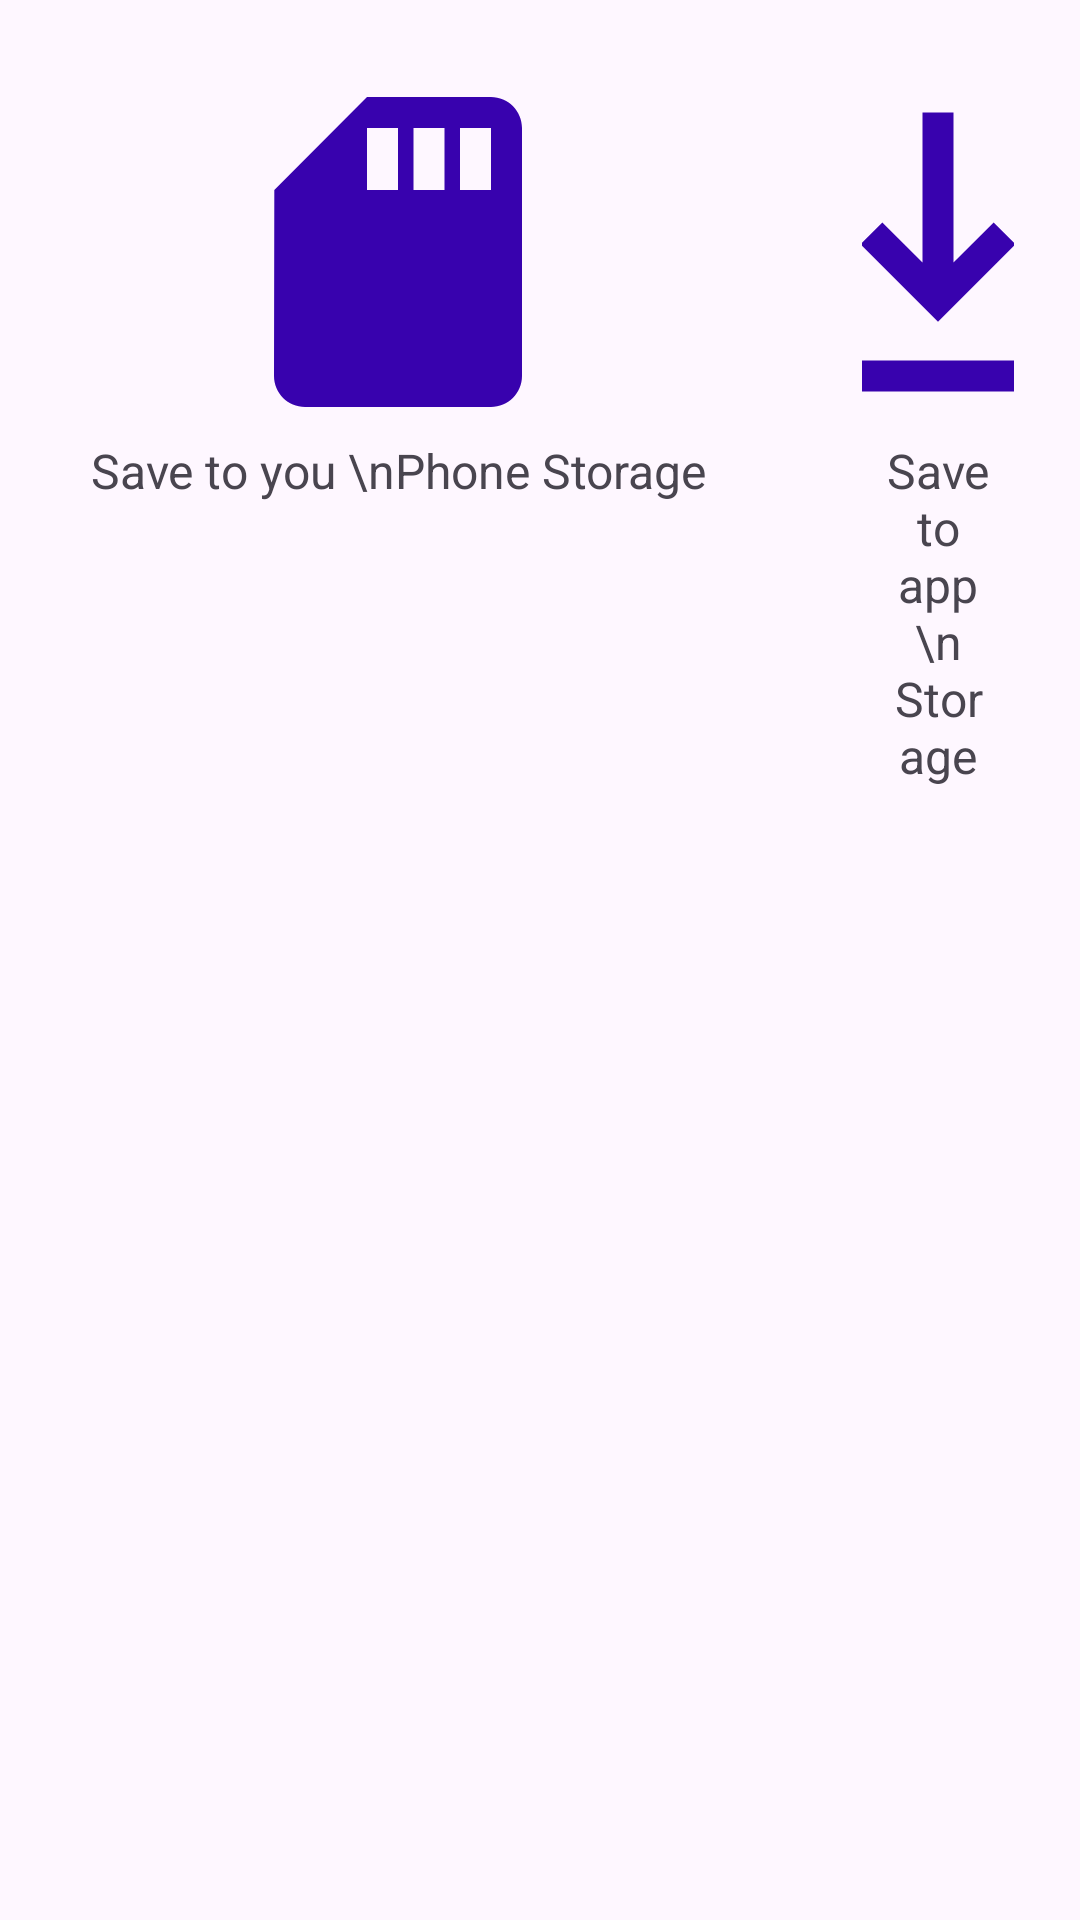

Icons on this 1080*1920 Android screen, each with the point to tap as (x=x, y=y):
sd storage: (x=398, y=252)
